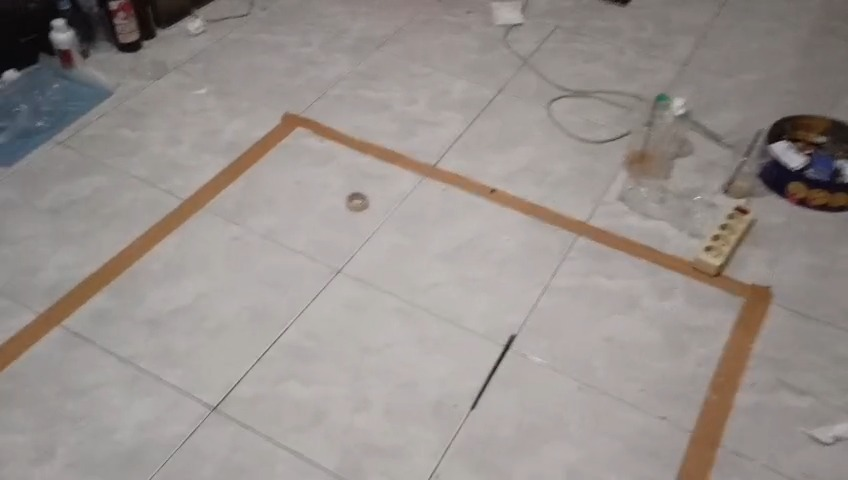floor marking: (0, 113, 771, 479), (284, 132, 284, 133)
